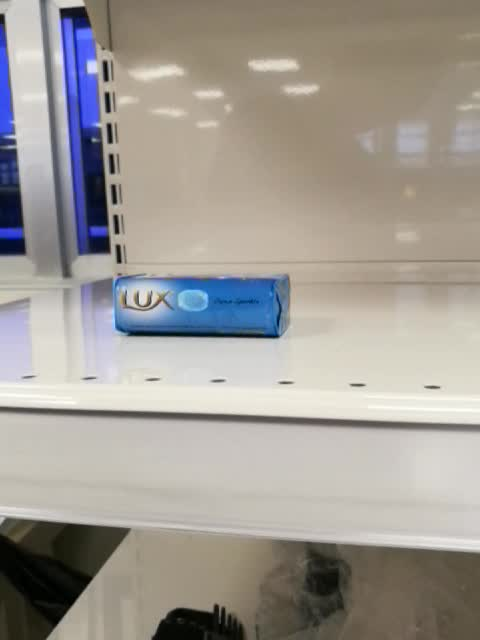soap: (113, 272, 292, 340)
